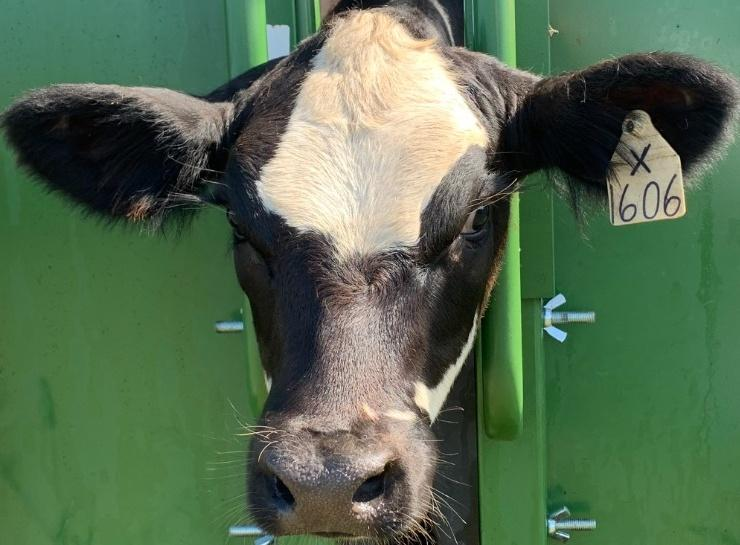muzzles: (238, 407, 454, 545)
